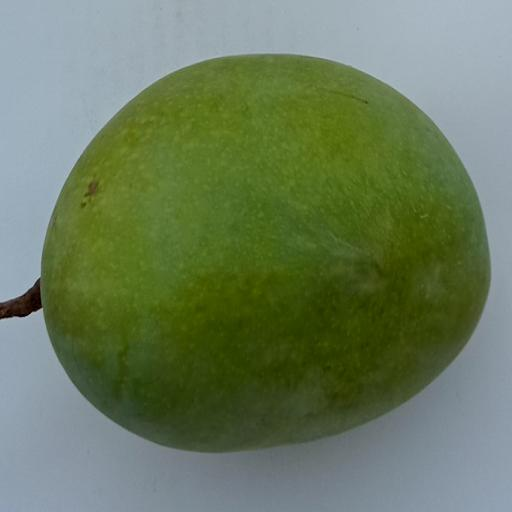mango-unripe: (1, 36, 512, 475)
